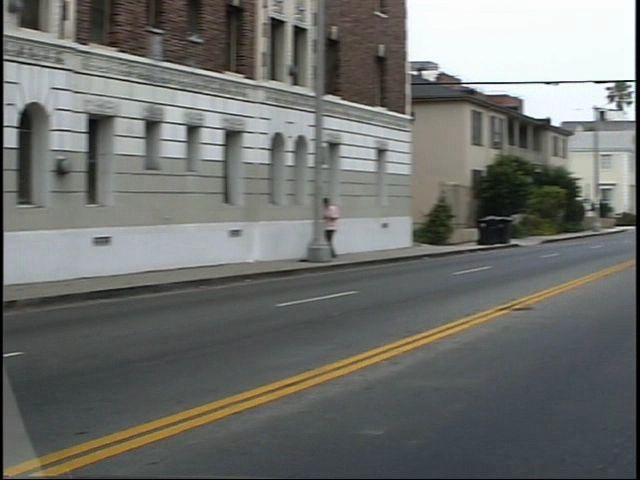person: (340, 190, 363, 260)
